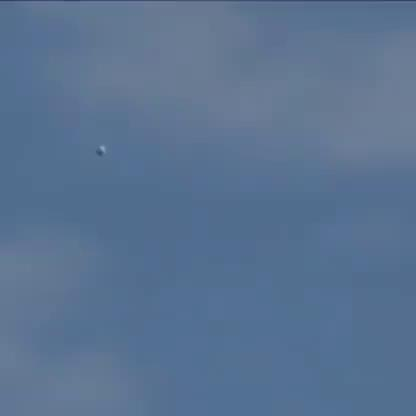golfball: (94, 142, 105, 153)
